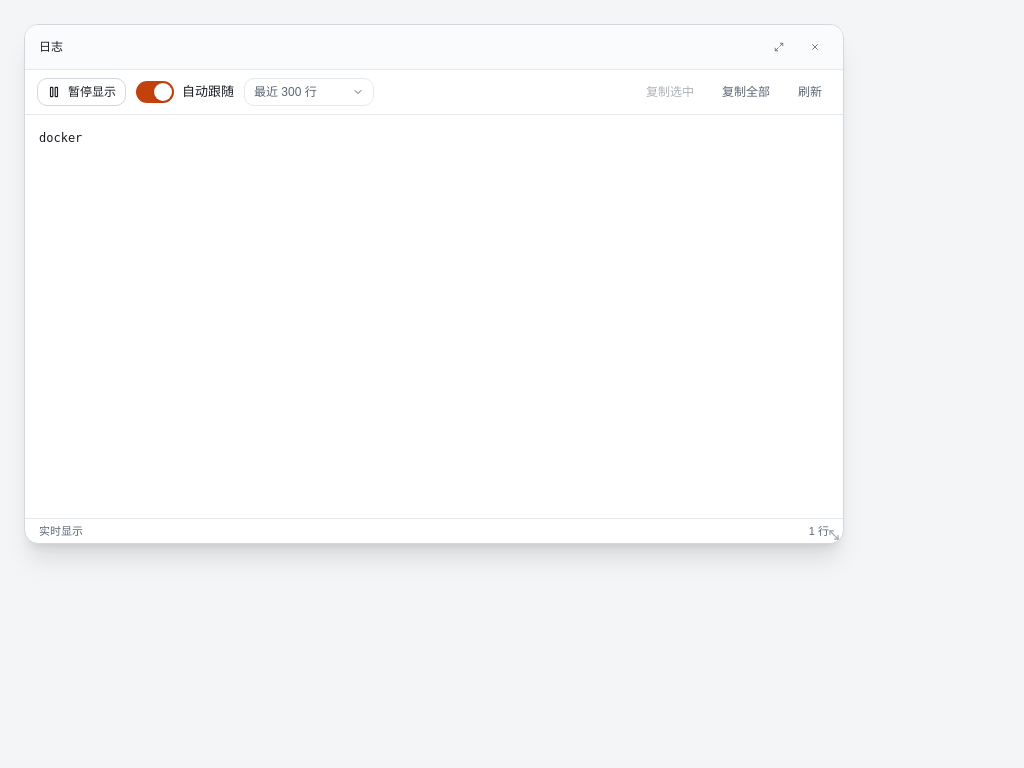
暂停显示不停止后台轮询；关闭窗口后停止轮询
Click the button "暂停显示" at (82, 92), box [37,78,126,106]
Wait 4000 ms
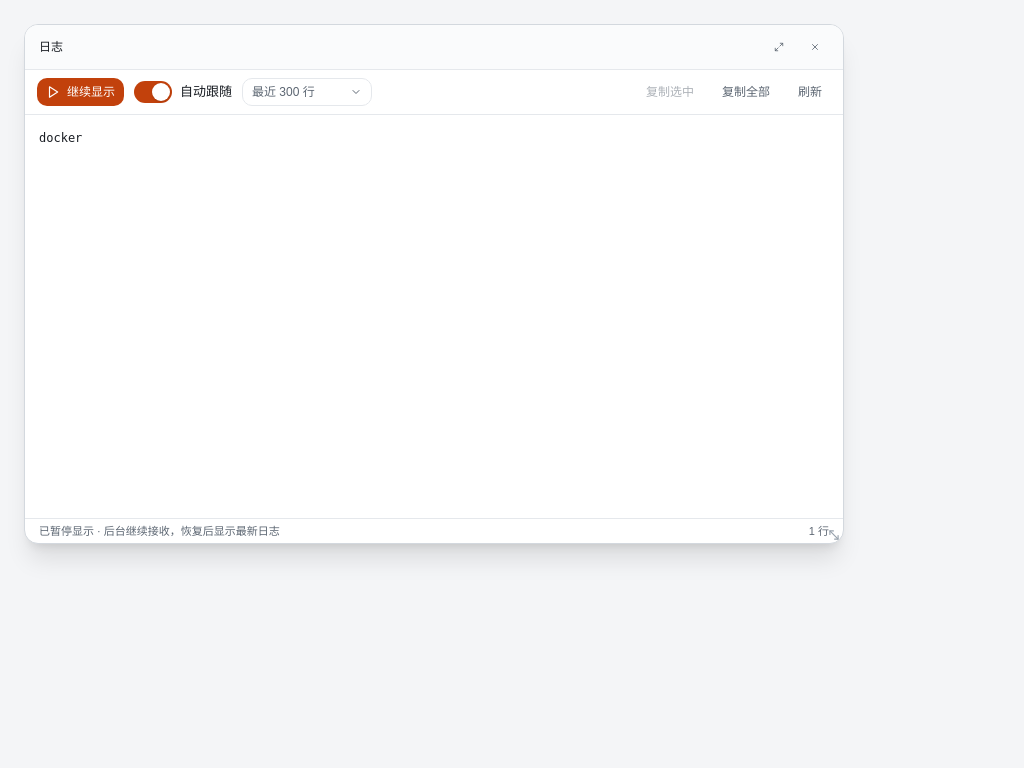
Check: the text "docker" is shown, box [39,131,82,145]
Click the button "继续显示" at (80, 92), box [37,78,124,106]
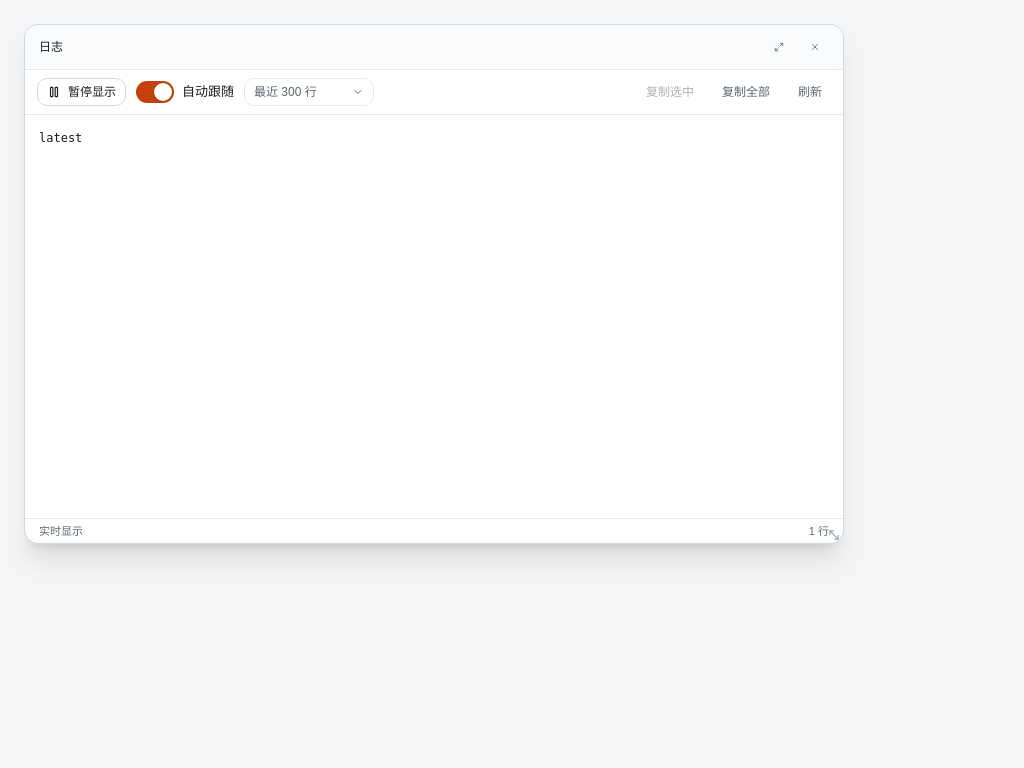
Check: the text "latest" is shown, box [39,131,82,145]
